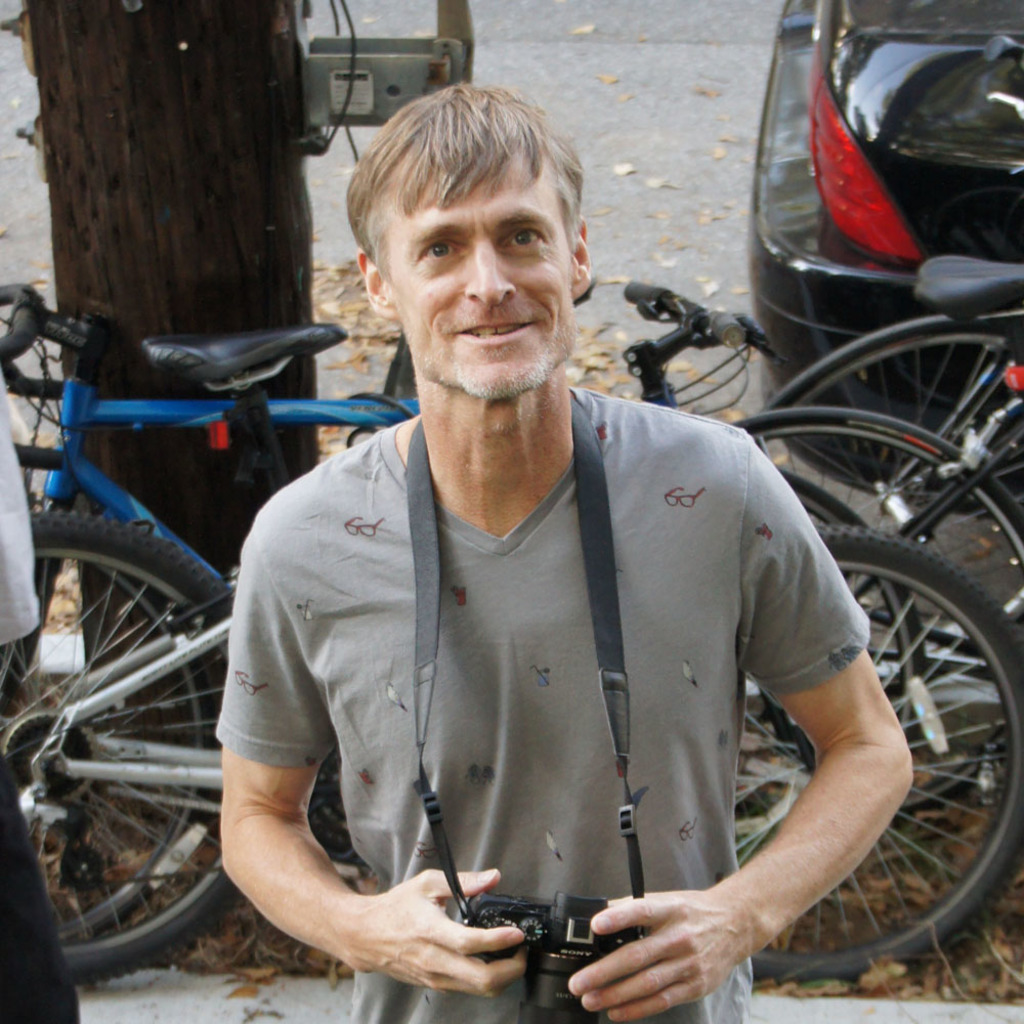Car: (743, 0, 1023, 507)
